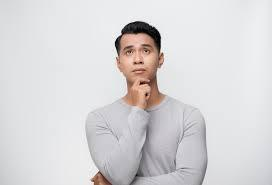person: (111, 17, 173, 92)
